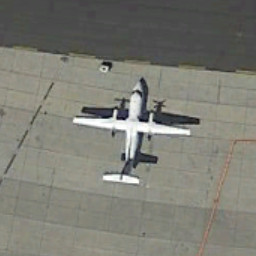Airplane: (68, 73, 203, 195)
